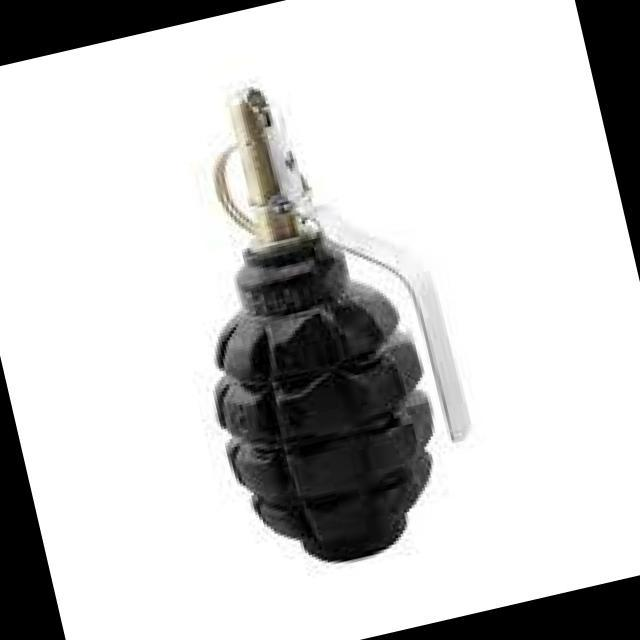grenade: (132, 39, 492, 582)
